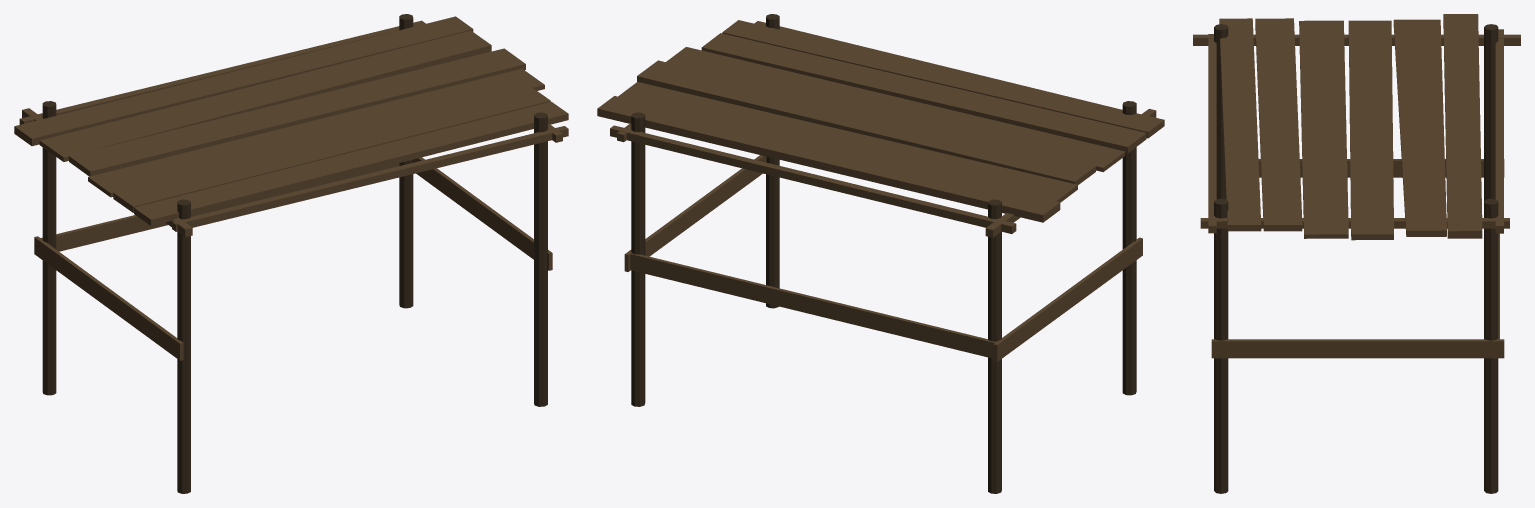
File: Tent_2.fbx
The picture shows the model from 3 angles, left to right: view 1: azimuth 30°, elevation 25°; view 2: azimuth 150°, elevation 25°; view 3: azimuth 270°, elevation 25°; orthographic projection.
Visible parts, largest first — view 1: Tent_2; view 2: Tent_2; view 3: Tent_2.
Part boxes in pixels (x1,y1,x2,y2): Tent_2: (14,14,568,493); Tent_2: (597,14,1164,493); Tent_2: (1193,14,1520,493).
Bounding box in the file's own units: 347 × 213 × 219.
